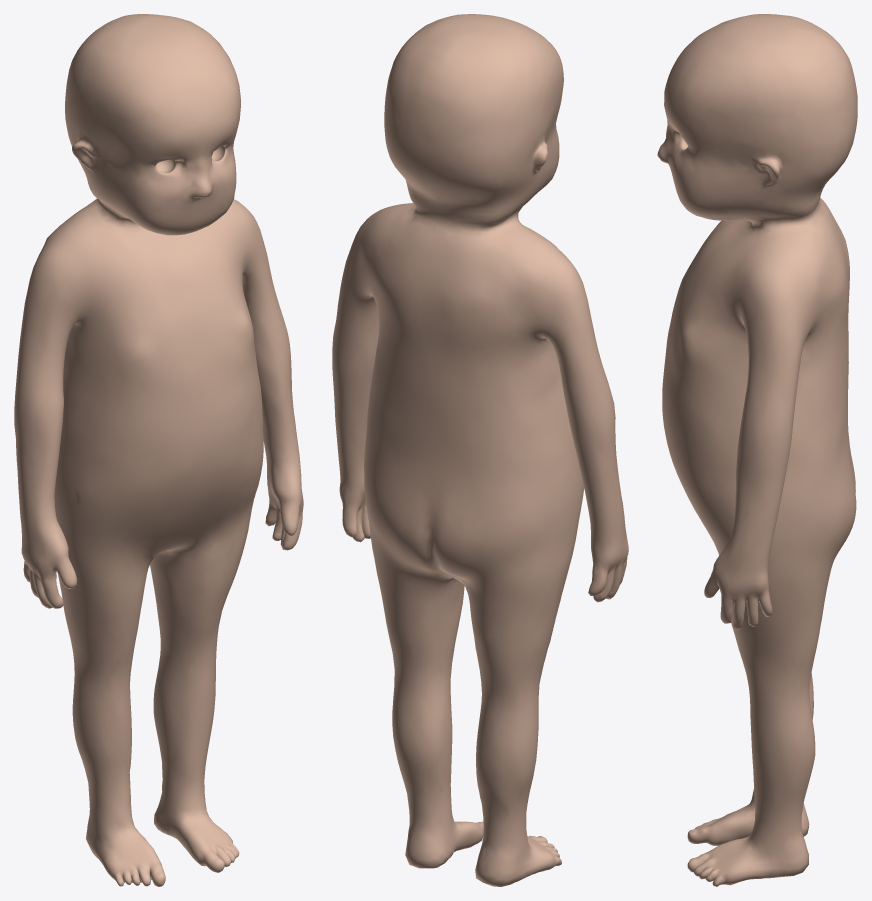
Rendered from pediatric_infant_female.surface.LOD0.glb.
The picture shows the model from 3 angles, left to right: view 1: azimuth 30°, elevation 25°; view 2: azimuth 150°, elevation 25°; view 3: azimuth 270°, elevation 25°; orthographic projection. The views are drawn at different scales.
Visible parts, largest first — view 1: PEDIATRIC.INFANT.FEMALE.SURFACE.SKIN; view 2: PEDIATRIC.INFANT.FEMALE.SURFACE.SKIN; view 3: PEDIATRIC.INFANT.FEMALE.SURFACE.SKIN.
Boxes of the visible parts, left/top/right/bottom form: PEDIATRIC.INFANT.FEMALE.SURFACE.SKIN: left=14, top=14, right=303, bottom=886; PEDIATRIC.INFANT.FEMALE.SURFACE.SKIN: left=332, top=14, right=628, bottom=886; PEDIATRIC.INFANT.FEMALE.SURFACE.SKIN: left=657, top=14, right=857, bottom=886.
Size of the model in its own units: 0.2612 by 0.76 by 0.1658.
